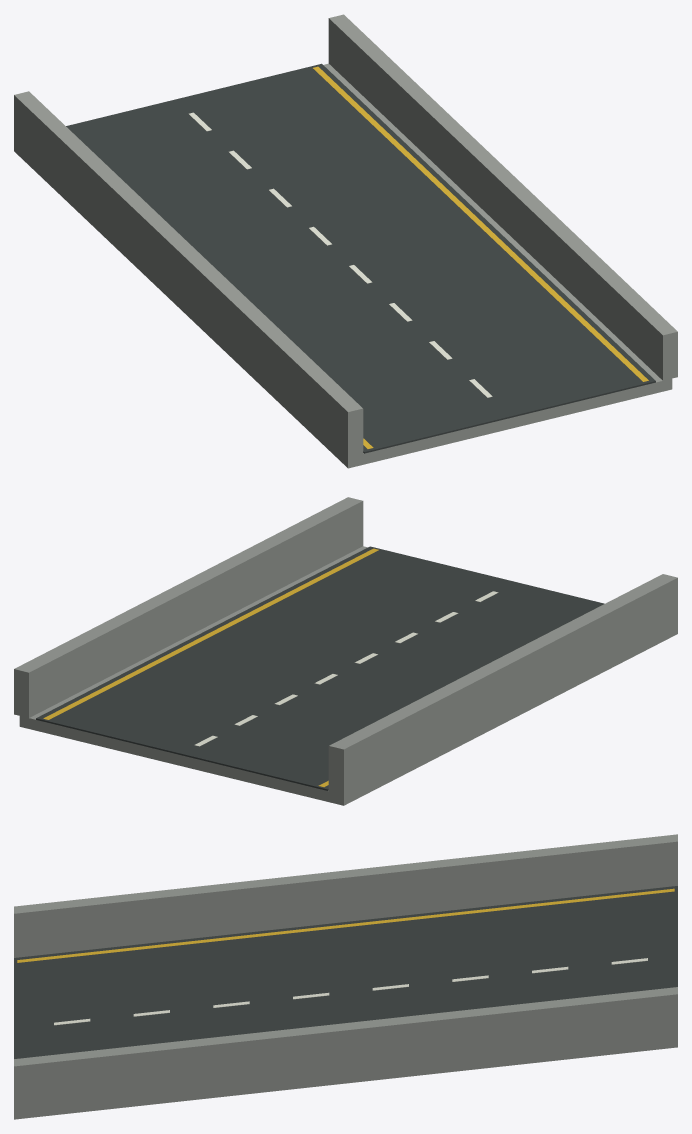
The model's file is hdb-car-park-ramp-reopened-edit.glb.
3 views of the same model, one above another, from view 1: azimuth 30°, elevation 25°; view 2: azimuth 150°, elevation 25°; view 3: azimuth 270°, elevation 25° (orthographic).
Visible parts, largest first — view 1: SURFACE_Road, PARAPET_1, PARAPET_-1, STRUCTURE_Ramp, MARK_Edge_1; view 2: SURFACE_Road, PARAPET_1, PARAPET_-1, STRUCTURE_Ramp, MARK_Edge_1; view 3: SURFACE_Road, PARAPET_1, PARAPET_-1, STRUCTURE_Ramp, MARK_Edge_-1.
Part boxes in pixels (x1=…): SURFACE_Road: x1=66, y1=63, x2=655, y2=453; PARAPET_1: x1=328, y1=14, x2=677, y2=380; PARAPET_-1: x1=14, y1=91, x2=363, y2=457; STRUCTURE_Ramp: x1=14, y1=63, x2=672, y2=468; MARK_Edge_1: x1=313, y1=66, x2=648, y2=381; SURFACE_Road: x1=36, y1=546, x2=604, y2=790; PARAPET_1: x1=14, y1=497, x2=363, y2=717; PARAPET_-1: x1=328, y1=574, x2=677, y2=794; STRUCTURE_Ramp: x1=19, y1=546, x2=677, y2=805; MARK_Edge_1: x1=43, y1=548, x2=378, y2=719; SURFACE_Road: x1=14, y1=886, x2=677, y2=1058; PARAPET_1: x1=14, y1=987, x2=677, y2=1111; PARAPET_-1: x1=14, y1=834, x2=677, y2=957; STRUCTURE_Ramp: x1=14, y1=1039, x2=677, y2=1119; MARK_Edge_-1: x1=17, y1=888, x2=674, y2=962.
Size of the model in its own units: 5.7 by 2.13 by 10.
